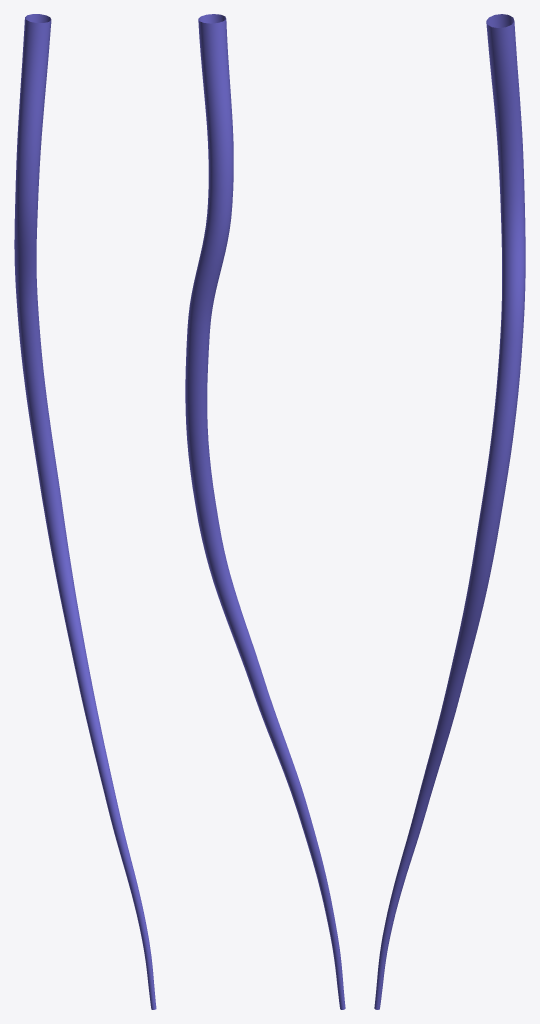
The model's file is Thoracodorsal_vein.r_BezierCurve.311.glb.
3 views of the same model, side by side, from view 1: azimuth 90°, elevation 25°; view 2: azimuth 150°, elevation 25°; view 3: azimuth 270°, elevation 25° (orthographic). The views are drawn at different scales.
Parts seen in each view (by area): view 1: Thoracodorsal_vein.r_BezierCurve.311; view 2: Thoracodorsal_vein.r_BezierCurve.311; view 3: Thoracodorsal_vein.r_BezierCurve.311.
Boxes of the visible parts, left/top/right/bottom form: Thoracodorsal_vein.r_BezierCurve.311: left=14, top=14, right=156, bottom=1009; Thoracodorsal_vein.r_BezierCurve.311: left=185, top=14, right=345, bottom=1009; Thoracodorsal_vein.r_BezierCurve.311: left=374, top=14, right=525, bottom=1009.
Bounding box in the file's own units: 0.0117 × 0.1189 × 0.0159.
